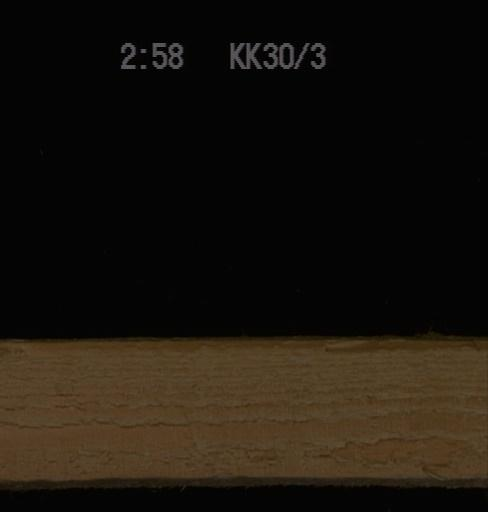wave: (0, 334, 487, 356)
